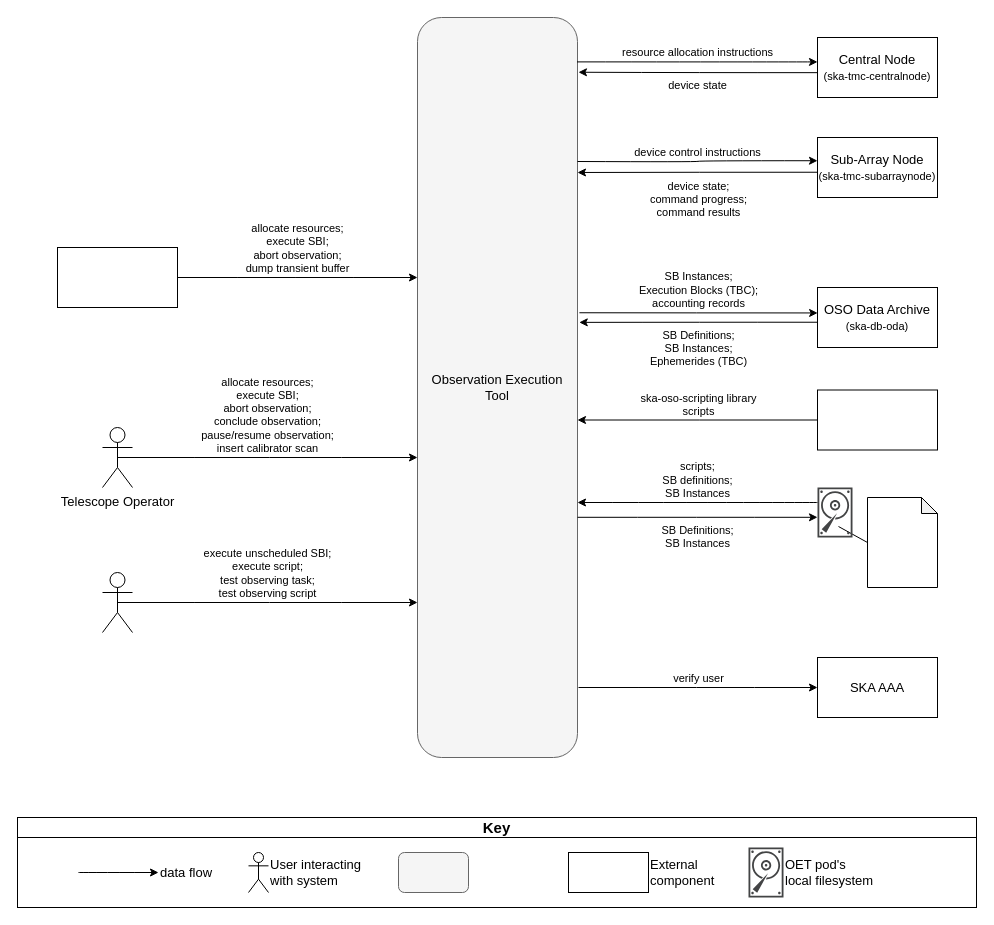
This 994x925 diagram has some shape labels left out. Each missing label, with the centre of its shape:
Commissioning Scientist: the point at 117,602
Git Repository: the point at 877,419
Observation Scheduling Tool (ska-oso-ost): the point at 117,277
System under consideration: the point at 433,872
temporary measure until ODA and GitLab access is implemented: the point at 902,542
